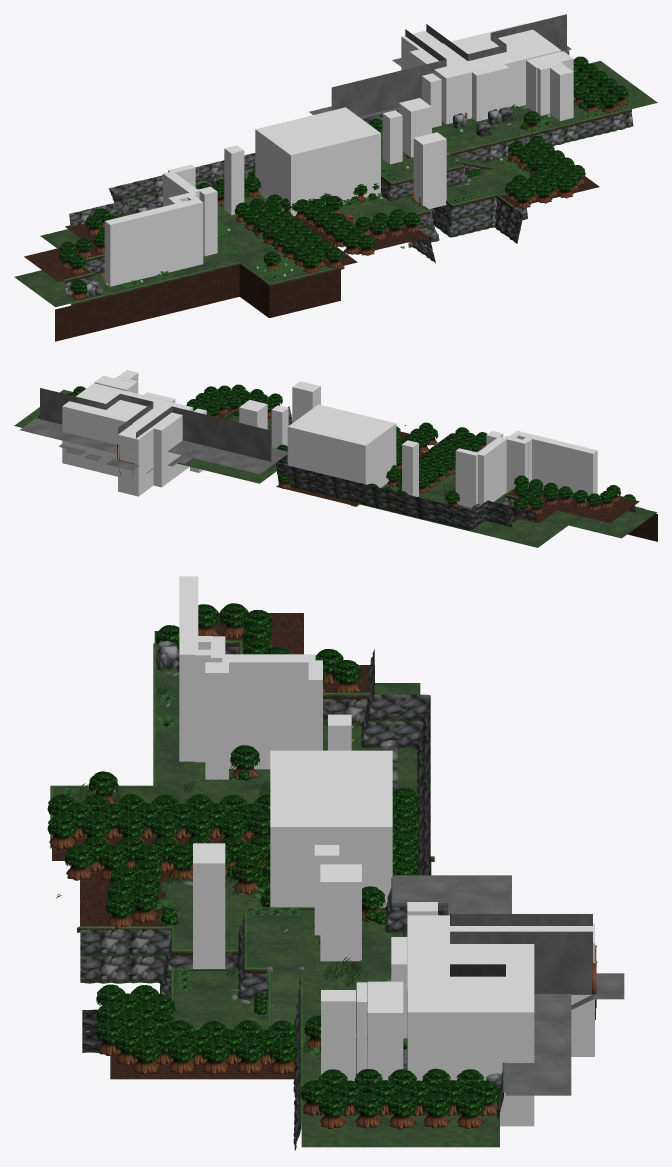
The model's file is world2.glb.
3 renders of one model, top to bottom at view 1: azimuth 30°, elevation 25°; view 2: azimuth 150°, elevation 25°; view 3: azimuth 270°, elevation 25°, orthographic. The views are drawn at different scales.
Parts seen in each view (by area): view 1: area_dirt_, floor_dirt_B.030, area_dirt_.003, area_stone_, floor_receive.002, floor_receive.006, floor_rock2.006, floor_receive.004, area_wood_, floor_rock2.003, border_receive, area_stone_.003 (+20 smaller); view 2: area_dirt_, area_stone_, floor_receive.002, floor_rock2.006, area_dirt_.003, clif_cast_receive.002, area_wood_.001, area_dirt_.011, floor_cast.001, floor_rock2.003, floor_cast.004, area_dirt_.008 (+12 smaller); view 3: area_stone_, area_dirt_, floor_receive.006, area_dirt_.011, floor_receive.002, floor_receive.004, floor_rock2.003, floor_cast.002, clif.002, clif_cast_receive.002, area_wood_, area_dirt_.001 (+36 smaller).
Part boxes in pixels (box(x1,y1,x2,y2)): area_dirt_: box(255, 107, 380, 216); floor_dirt_B.030: box(55, 265, 340, 341); area_dirt_.003: box(104, 198, 203, 286); area_stone_: box(409, 23, 561, 124); floor_receive.002: box(14, 205, 330, 307); floor_receive.006: box(381, 61, 657, 181); floor_rock2.006: box(331, 29, 446, 116); floor_receive.004: box(340, 159, 518, 228); area_wood_: box(413, 132, 446, 209); floor_rock2.003: box(426, 14, 566, 60); border_receive: box(524, 108, 633, 146); area_stone_.003: box(472, 64, 509, 121); area_dirt_: box(287, 404, 396, 491); area_stone_: box(62, 383, 193, 487); floor_receive.002: box(379, 470, 656, 547); floor_rock2.006: box(136, 406, 271, 461); area_dirt_.003: box(513, 431, 597, 501); clif_cast_receive.002: box(395, 492, 511, 530); area_wood_.001: box(118, 423, 153, 496); area_dirt_.011: box(476, 436, 506, 504); floor_cast.001: box(167, 440, 288, 474); floor_rock2.003: box(40, 388, 153, 434); floor_cast.004: box(507, 489, 639, 523); area_dirt_.008: box(455, 448, 477, 507); area_stone_: box(407, 915, 534, 1126); area_dirt_: box(270, 750, 392, 907); floor_receive.006: box(247, 909, 499, 1147); area_dirt_.011: box(222, 654, 315, 769); floor_receive.002: box(53, 631, 420, 838); floor_receive.004: box(173, 884, 269, 1030); floor_rock2.003: box(450, 931, 592, 993); floor_cast.002: box(505, 994, 571, 1095); clif.002: box(80, 929, 171, 983); clif_cast_receive.002: box(361, 675, 430, 814); area_wood_: box(193, 843, 225, 968); area_dirt_.001: box(320, 864, 361, 961).
Size of what is drawn, in the model's own units: 91.02 by 13.91 by 40.75.
6 materials, 5 textured.
